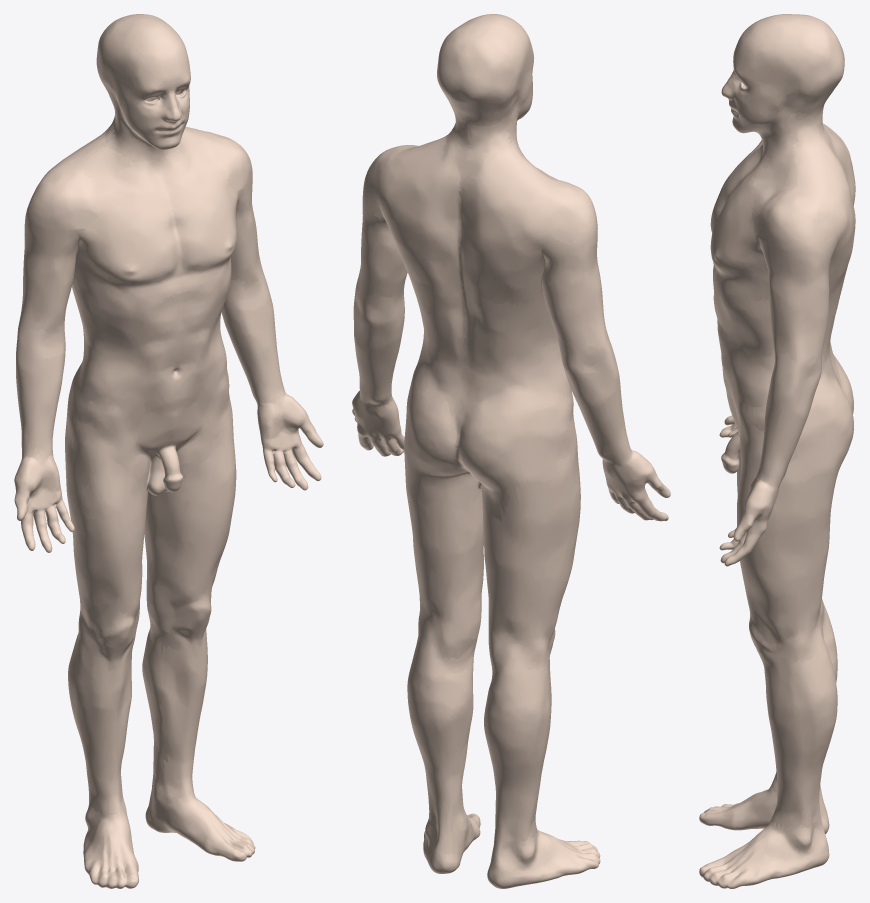
File: skin.glb
3 renders of one model, left to right at view 1: azimuth 30°, elevation 25°; view 2: azimuth 150°, elevation 25°; view 3: azimuth 270°, elevation 25°, orthographic. The views are drawn at different scales.
Parts seen in each view (by area): view 1: openhealth:skin-chest:right:isa:FJ2810, openhealth:skin-thigh:left:isa:FJ2810, openhealth:skin-thigh:right:isa:FJ2810, openhealth:skin-abdomen:right:isa:FJ2810, openhealth:skin-chest:left:isa:FJ2810, openhealth:skin-shin:right:isa:FJ2810, openhealth:skin-shin:left:isa:FJ2810, openhealth:skin-groin:right:isa:FJ2810, openhealth:skin-abdomen:left:isa:FJ2810, openhealth:skin-upper-arm:right:isa:FJ2810, openhealth:skin-hand:right:isa:FJ2810, openhealth:skin-hand:left:isa:FJ2810 (+24 smaller); view 2: openhealth:skin-thigh:right:isa:FJ2810, openhealth:skin-upper-back:right:isa:FJ2810, openhealth:skin-thigh:left:isa:FJ2810, openhealth:skin-lower-back:right:isa:FJ2810, openhealth:skin-upper-back:left:isa:FJ2810, openhealth:skin-buttock:right:isa:FJ2810, openhealth:skin-calf:left:isa:FJ2810, openhealth:skin-calf:right:isa:FJ2810, openhealth:skin-scalp:right:isa:FJ2810, openhealth:skin-buttock:left:isa:FJ2810, openhealth:skin-lower-back:left:isa:FJ2810, openhealth:skin-upper-arm:right:isa:FJ2810 (+18 smaller); view 3: openhealth:skin-thigh:left:isa:FJ2810, openhealth:skin-upper-arm:left:isa:FJ2810, openhealth:skin-chest:left:isa:FJ2810, openhealth:skin-scalp:left:isa:FJ2810, openhealth:skin-abdomen:left:isa:FJ2810, openhealth:skin-foot:left:isa:FJ2810, openhealth:skin-upper-back:left:isa:FJ2810, openhealth:skin-shin:left:isa:FJ2810, openhealth:skin-calf:left:isa:FJ2810, openhealth:skin-forearm:left:isa:FJ2810, openhealth:skin-buttock:left:isa:FJ2810, openhealth:skin-shoulder:left:isa:FJ2810 (+16 smaller).
Part boxes in pixels (x1,y1,x2,y2): openhealth:skin-chest:right:isa:FJ2810: (71,146,182,305); openhealth:skin-thigh:left:isa:FJ2810: (144,424,235,632); openhealth:skin-thigh:right:isa:FJ2810: (65,413,156,648); openhealth:skin-abdomen:right:isa:FJ2810: (73,285,184,425); openhealth:skin-chest:left:isa:FJ2810: (155,131,237,292); openhealth:skin-shin:right:isa:FJ2810: (71,655,131,815); openhealth:skin-shin:left:isa:FJ2810: (154,637,207,798); openhealth:skin-groin:right:isa:FJ2810: (70,412,178,495); openhealth:skin-abdomen:left:isa:FJ2810: (173,272,231,414); openhealth:skin-upper-arm:right:isa:FJ2810: (18,216,87,331); openhealth:skin-hand:right:isa:FJ2810: (14,454,102,552); openhealth:skin-hand:left:isa:FJ2810: (234,396,323,490); openhealth:skin-thigh:right:isa:FJ2810: (483,427,580,678); openhealth:skin-upper-back:right:isa:FJ2810: (458,151,568,306); openhealth:skin-thigh:left:isa:FJ2810: (404,453,483,662); openhealth:skin-lower-back:right:isa:FJ2810: (459,290,563,417); openhealth:skin-upper-back:left:isa:FJ2810: (369,137,463,294); openhealth:skin-buttock:right:isa:FJ2810: (456,393,572,528); openhealth:skin-calf:left:isa:FJ2810: (407,656,473,832); openhealth:skin-calf:right:isa:FJ2810: (484,681,551,843); openhealth:skin-scalp:right:isa:FJ2810: (454,14,532,126); openhealth:skin-buttock:left:isa:FJ2810: (404,373,476,513); openhealth:skin-lower-back:left:isa:FJ2810: (399,264,468,416); openhealth:skin-upper-arm:right:isa:FJ2810: (544,231,608,350); openhealth:skin-thigh:left:isa:FJ2810: (737,443,836,664); openhealth:skin-upper-arm:left:isa:FJ2810: (755,234,836,362); openhealth:skin-chest:left:isa:FJ2810: (710,151,797,302); openhealth:skin-scalp:left:isa:FJ2810: (746,17,844,117); openhealth:skin-abdomen:left:isa:FJ2810: (713,276,774,425); openhealth:skin-foot:left:isa:FJ2810: (699,818,829,888); openhealth:skin-upper-back:left:isa:FJ2810: (751,145,855,294); openhealth:skin-shin:left:isa:FJ2810: (764,670,804,829); openhealth:skin-calf:left:isa:FJ2810: (775,669,837,827); openhealth:skin-forearm:left:isa:FJ2810: (756,376,820,494); openhealth:skin-buttock:left:isa:FJ2810: (760,384,853,487); openhealth:skin-shoulder:left:isa:FJ2810: (752,164,832,253).
Bounding box in the file's own units: 0.6669 × 1.72 × 0.292.
